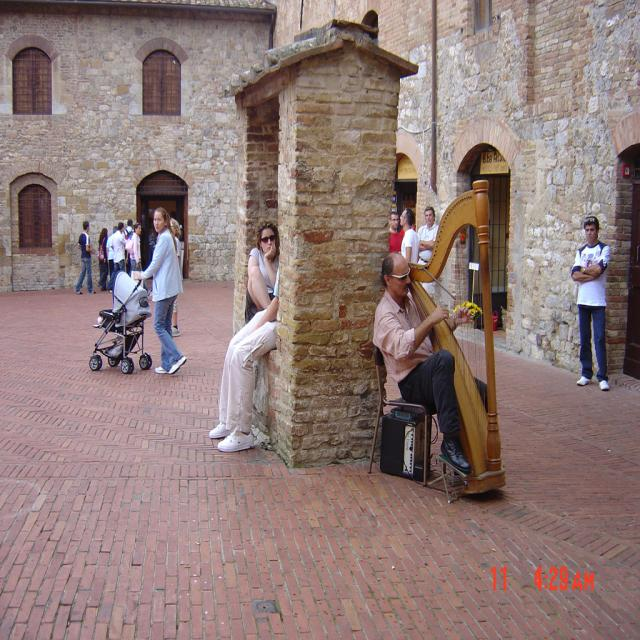harp: (397, 179, 507, 499)
